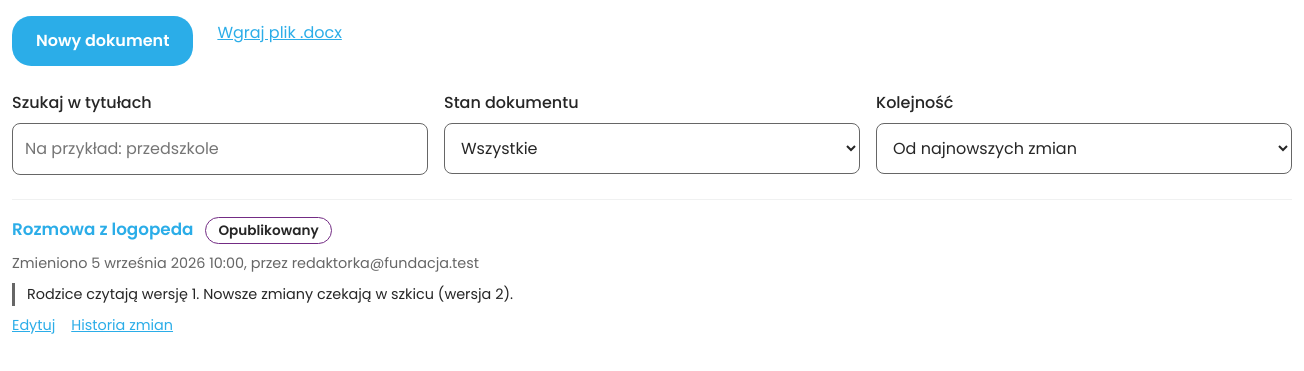
Test: DocumentsList › finds that document under the published filter, not under drafts
The image size is (1304, 371).
Check: the link "Rozmowa z logopeda" is shown, box [12,216,194,243]
Step 1. Select "Opublikowany" in the dropdown labelled "Stan dokumentu" → (652, 149), box [444,123,860,174]
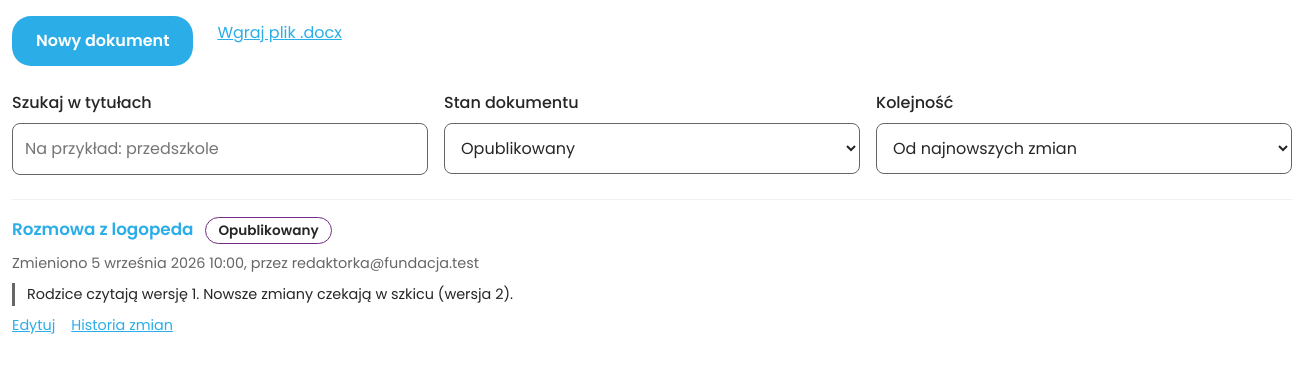
Check: the link "Rozmowa z logopeda" is shown, box [12,216,194,243]
Step 2. Select "Szkic" in the dropdown labelled "Stan dokumentu" → (652, 149), box [444,123,860,174]
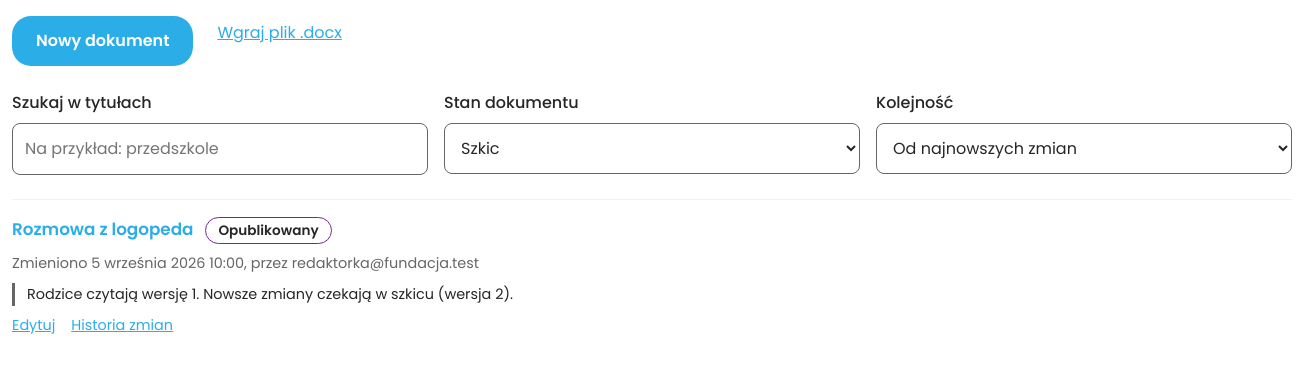
Check: the link "Rozmowa z logopeda" is shown, box [12,216,194,243]
Step 3. Select "Wycofany" in the dropdown labelled "Stan dokumentu" → (652, 149), box [444,123,860,174]
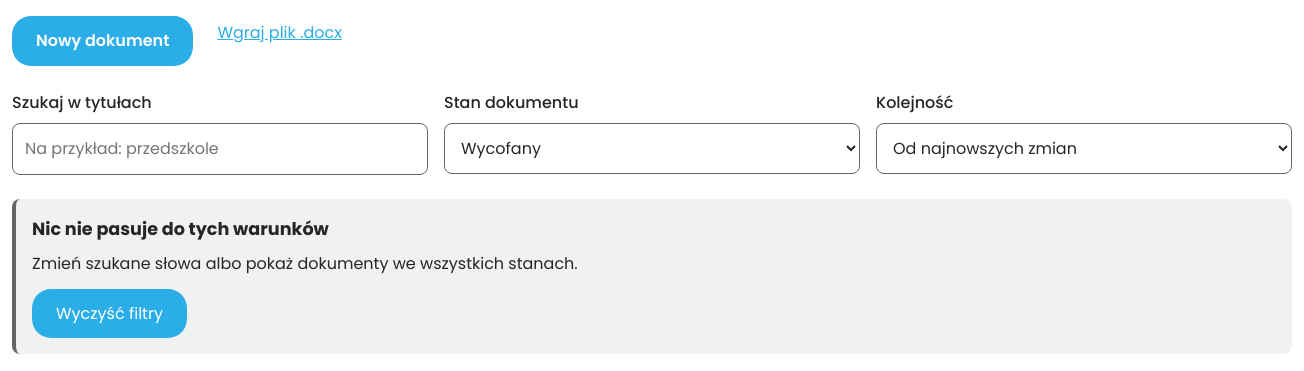
Check: the link "Rozmowa z logopeda" is gone
